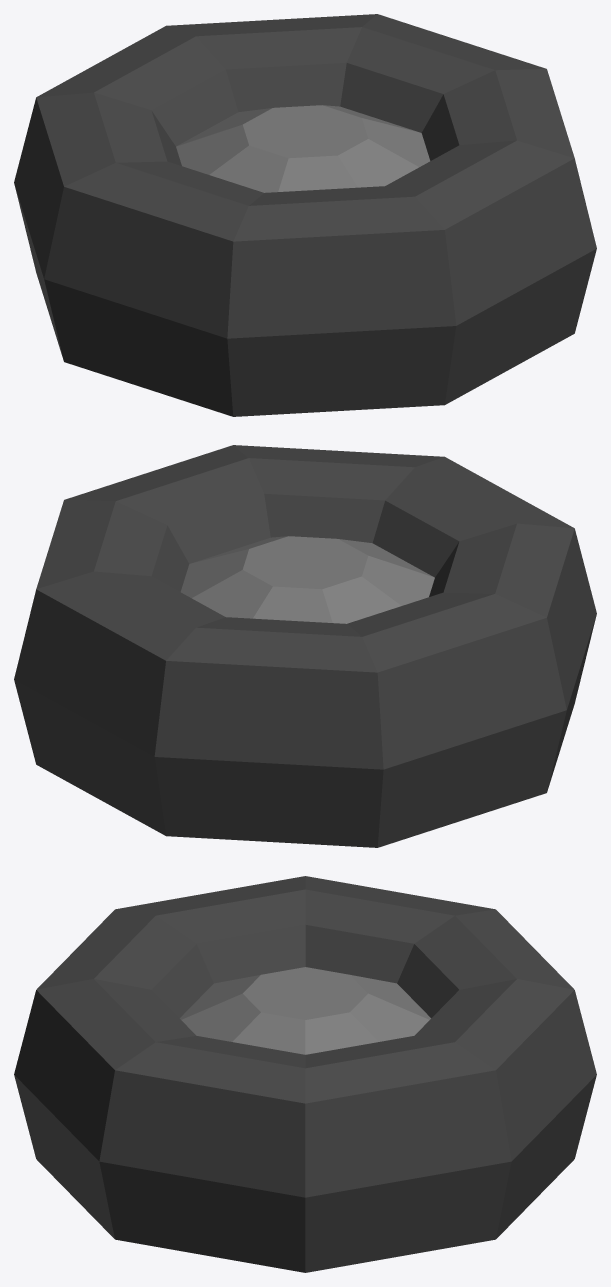
Rendered from prp_3.fbx.
The picture shows the model from 3 angles, top to bottom: view 1: azimuth 30°, elevation 25°; view 2: azimuth 150°, elevation 25°; view 3: azimuth 270°, elevation 25°; orthographic projection. The views are drawn at different scales.
Visible parts, largest first — view 1: Tire; view 2: Tire; view 3: Tire.
Boxes of the visible parts, <box> form: Tire: <box>14,14,596,416</box>; Tire: <box>14,445,596,847</box>; Tire: <box>14,876,596,1272</box>.
Size of the model in its own units: 2.16 by 0.7835 by 2.16.
